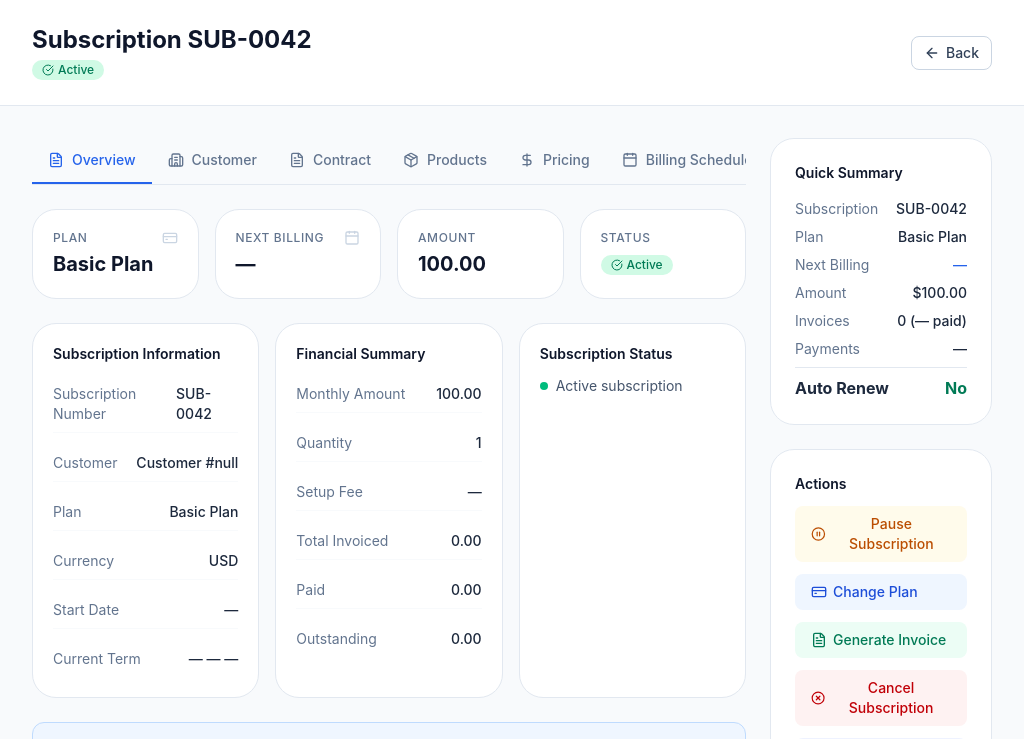
Plan change — happy path › closes the change-plan panel and refetches the subscription after a successful change
Click the button "Change Plan": (881, 592) [795,574,967,610]
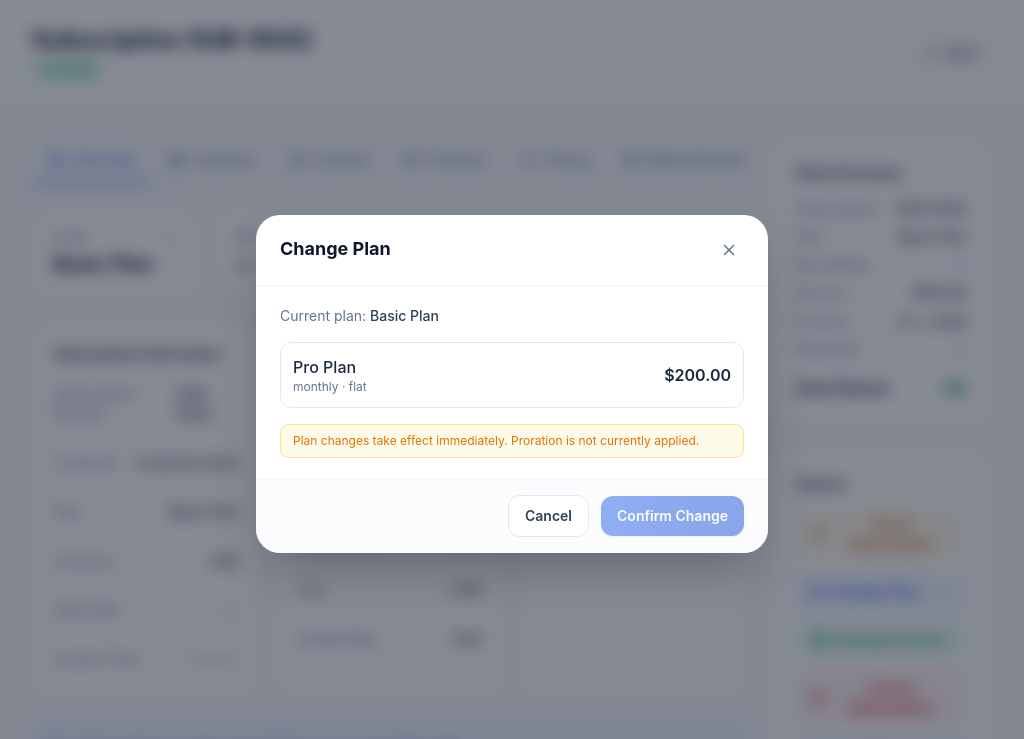
Click the button "Pro Plan monthly · flat $200.00": (325, 367) [280,342,744,408]
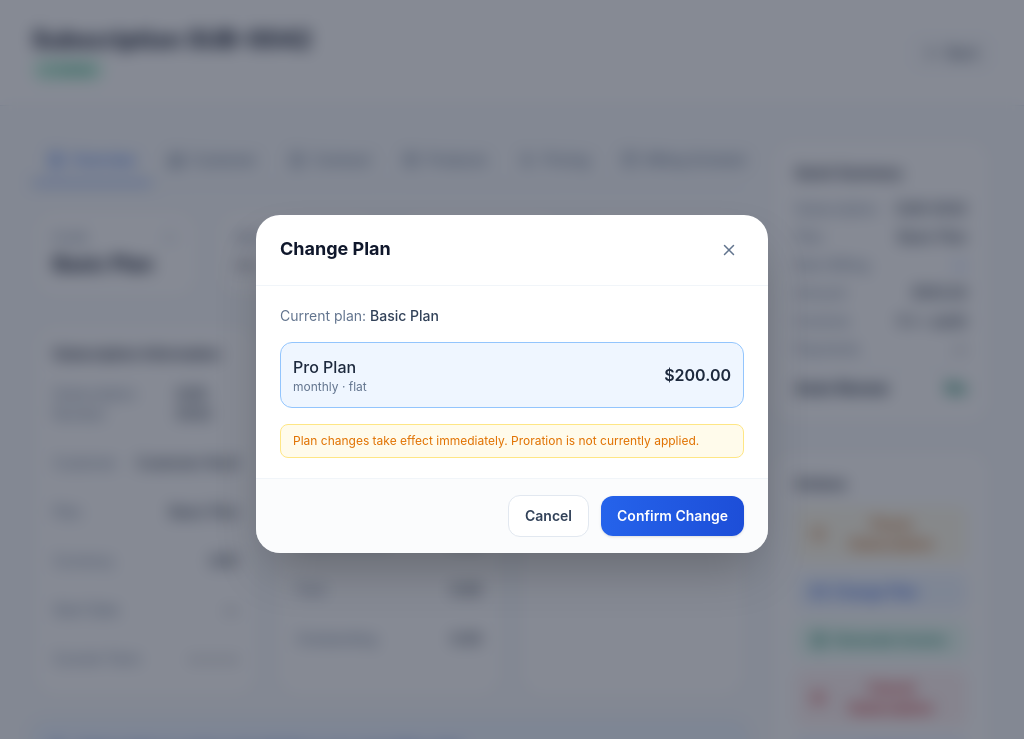
Click the button "Confirm Change": (672, 516) [601,496,744,536]
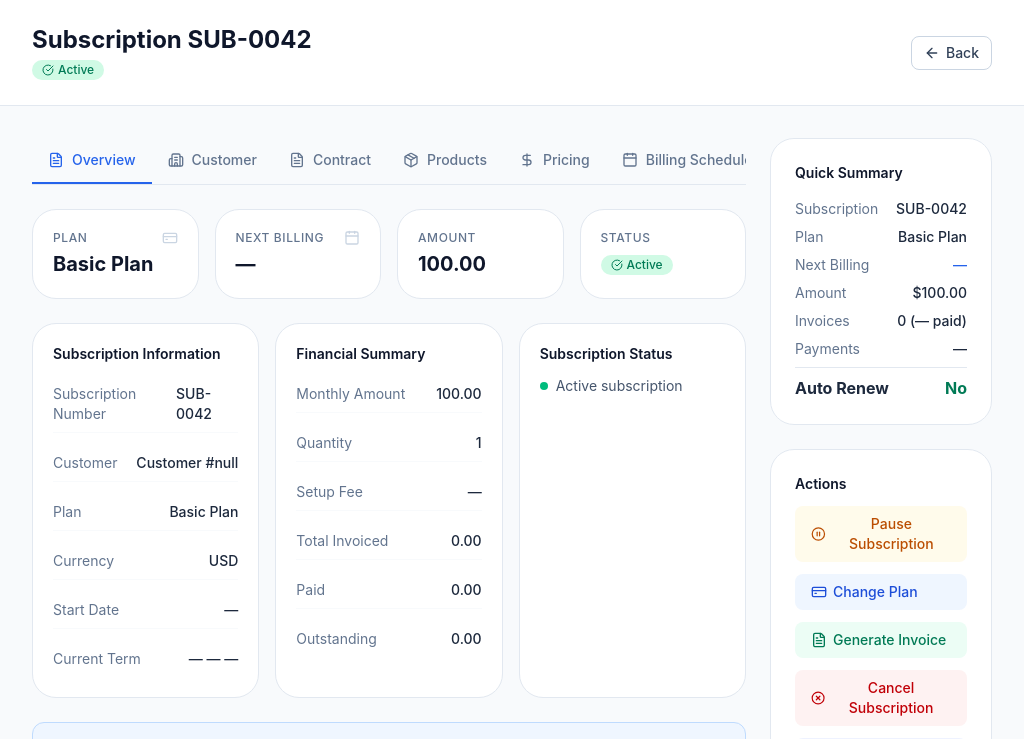
Now the button "Confirm Change" is gone
